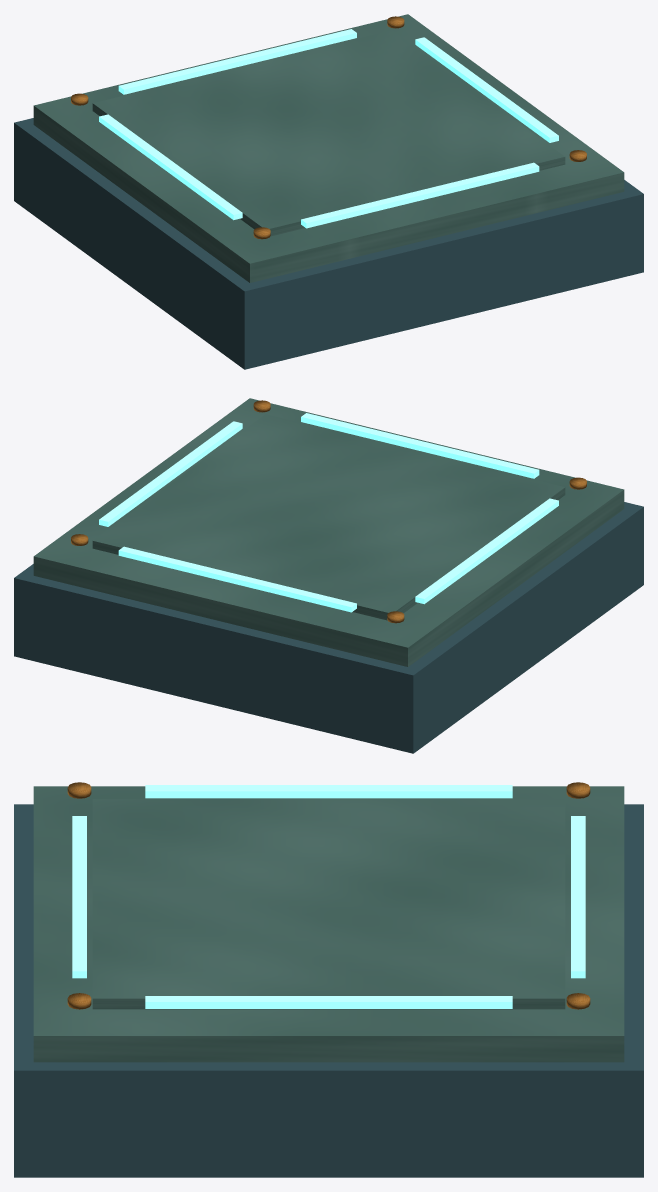
Rendered from floor.glb.
The picture shows the model from 3 angles, top to bottom: view 1: azimuth 30°, elevation 25°; view 2: azimuth 150°, elevation 25°; view 3: azimuth 270°, elevation 25°; orthographic projection. The views are drawn at different scales.
Parts seen in each view (by area): view 1: RF_floor-shell, RF_floor-inset, RF_floor-bezel, RF_floor-bus-b, RF_floor-bus-b.001, RF_floor-bus-a, RF_floor-bus-a.001; view 2: RF_floor-shell, RF_floor-inset, RF_floor-bezel, RF_floor-bus-b, RF_floor-bus-b.001, RF_floor-bus-a, RF_floor-bus-a.001; view 3: RF_floor-inset, RF_floor-shell, RF_floor-bezel, RF_floor-bus-a, RF_floor-bus-a.001, RF_floor-bus-b, RF_floor-bus-b.001.
Part boxes in pixels (x1,y1,x2,y2): RF_floor-shell: [14, 118, 643, 369]; RF_floor-inset: [92, 30, 565, 236]; RF_floor-bezel: [33, 14, 624, 282]; RF_floor-bus-b: [301, 162, 539, 228]; RF_floor-bus-b.001: [118, 29, 356, 94]; RF_floor-bus-a: [99, 114, 242, 220]; RF_floor-bus-a.001: [415, 37, 558, 142]; RF_floor-shell: [14, 502, 643, 753]; RF_floor-inset: [92, 414, 565, 620]; RF_floor-bezel: [33, 398, 624, 666]; RF_floor-bus-b: [301, 413, 539, 478]; RF_floor-bus-b.001: [118, 546, 356, 612]; RF_floor-bus-a: [415, 498, 558, 604]; RF_floor-bus-a.001: [99, 421, 242, 526]; RF_floor-inset: [92, 799, 565, 1009]; RF_floor-shell: [14, 804, 643, 1177]; RF_floor-bezel: [33, 786, 624, 1062]; RF_floor-bus-a: [145, 785, 512, 798]; RF_floor-bus-a.001: [145, 996, 512, 1008]; RF_floor-bus-b: [72, 816, 86, 978]; RF_floor-bus-b.001: [571, 816, 585, 978].
Bounding box in the file's own units: 0.96 × 0.2555 × 0.96.
Materials: 4 (2 with a texture image).
